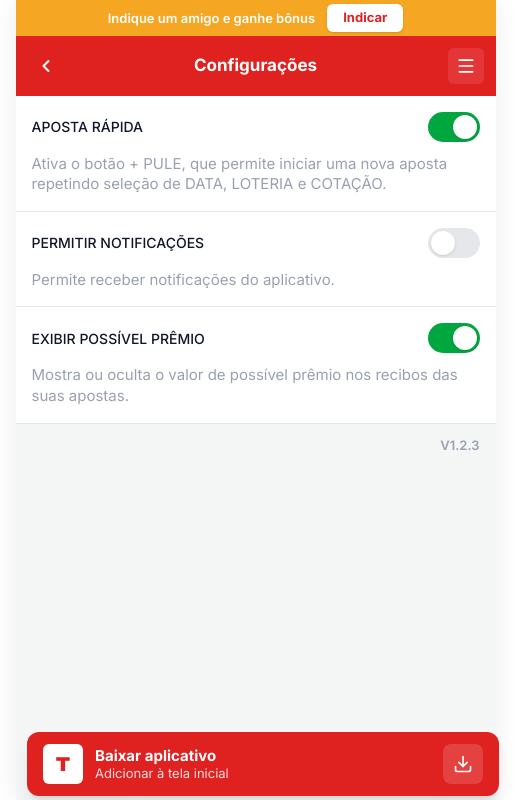
Scenario: Configurações: notificações › se o usuário nega o pedido, continua desligado (e a preferência não é gravada como ligada)
Click the switch named "Permitir notificações" in the row of "Permitir notificações": (454, 243) x1=428 y1=228 x2=480 y2=258
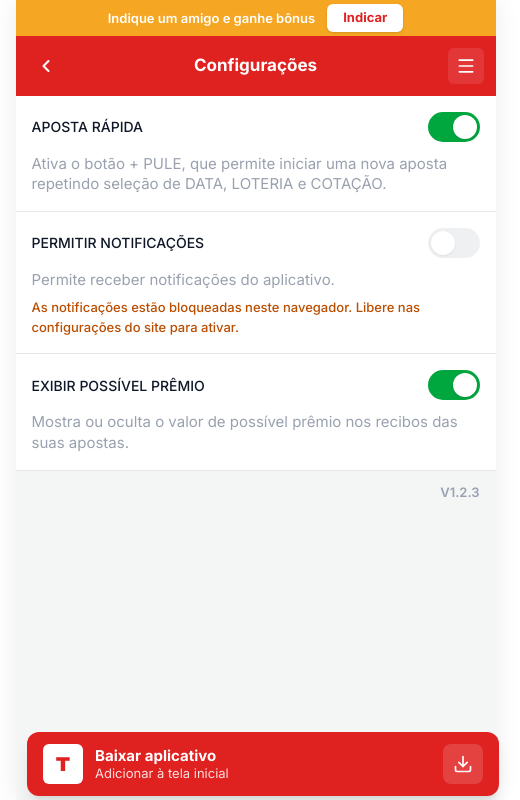
Expected: the text "bloqueadas neste navegador" is shown, x1=32 y1=299 x2=420 y2=335
